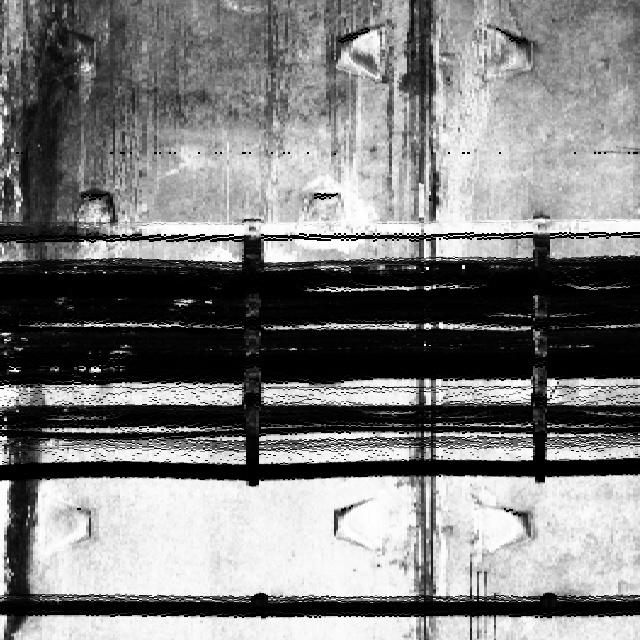leakage: (0, 0, 136, 262), (384, 0, 454, 226), (0, 390, 43, 637)
